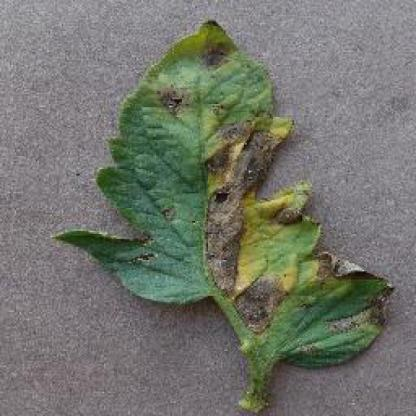Tomato_Blight: (54, 19, 392, 366)
